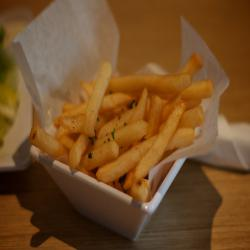fries: (42, 67, 203, 199)
